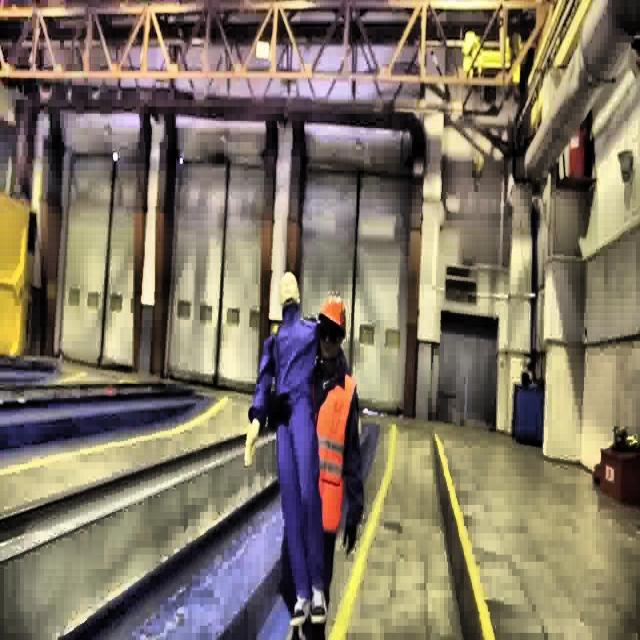safety_helmet: (321, 297, 347, 337)
safety_jacket: (315, 372, 358, 532)
